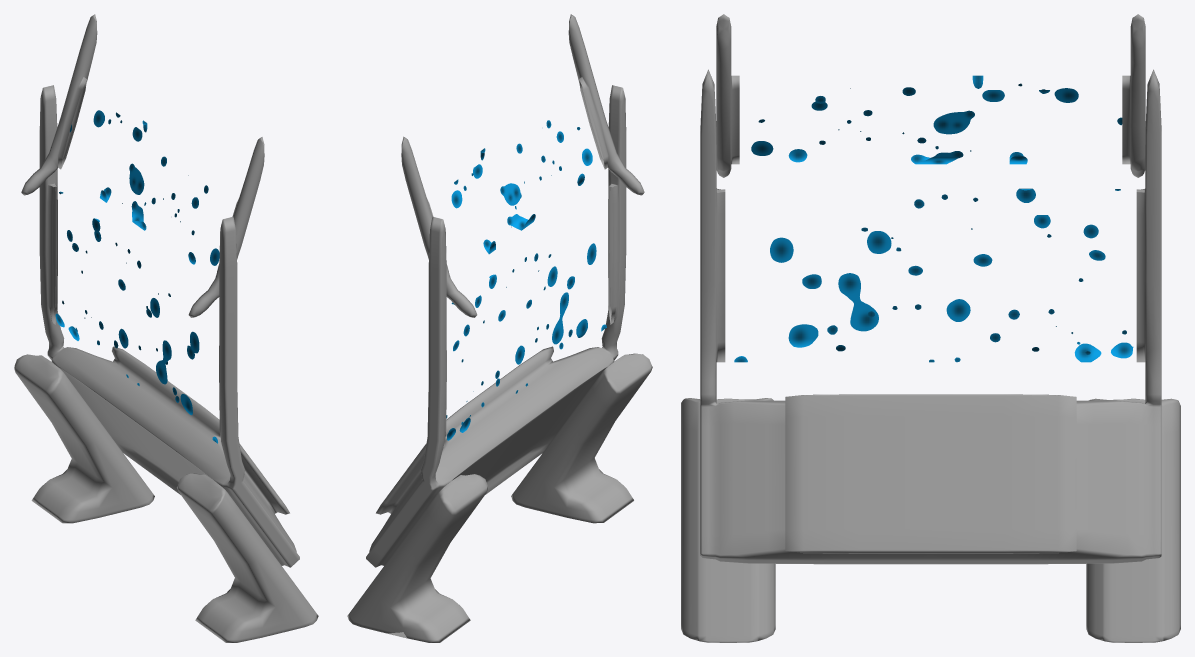
The model's file is Screen.fbx.
The picture shows the model from 3 angles, left to right: view 1: azimuth 30°, elevation 25°; view 2: azimuth 150°, elevation 25°; view 3: azimuth 270°, elevation 25°; orthographic projection. The views are drawn at different scales.
Visible parts, largest first — view 1: pCube4; view 2: pCube4; view 3: pCube4.
Part boxes in pixels (box(x1,y1,x2,y2)): pCube4: box(14, 14, 318, 642); pCube4: box(347, 14, 652, 642); pCube4: box(681, 14, 1180, 642).
Size of the model in its own units: 2.51 by 8.93 by 6.73.
